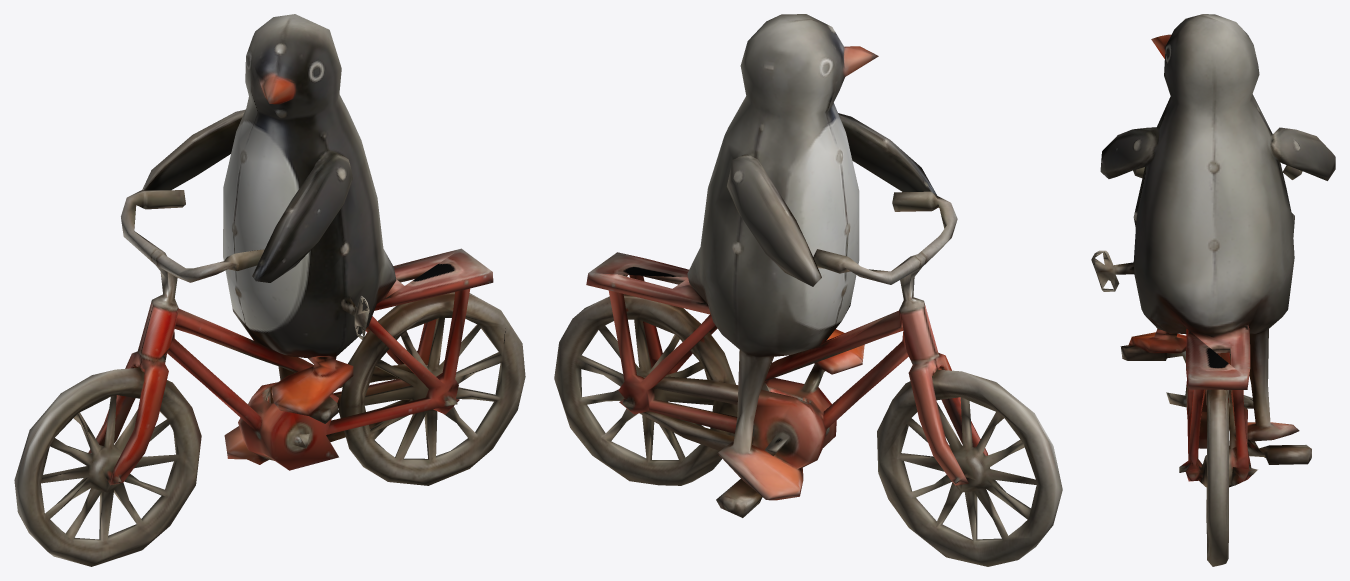
Rendered from penguin-09-32-bicycle-tin-penguin.gltf.
3 views of the same model, side by side, from view 1: azimuth 30°, elevation 25°; view 2: azimuth 150°, elevation 25°; view 3: azimuth 270°, elevation 25° (orthographic). The views are drawn at different scales.
Parts seen in each view (by area): view 1: penguin-09-32-bicycle-tin-penguin.001; view 2: penguin-09-32-bicycle-tin-penguin.001; view 3: penguin-09-32-bicycle-tin-penguin.001.
Boxes of the visible parts, box(x1,y1,x2,y2) form: penguin-09-32-bicycle-tin-penguin.001: box(14, 14, 525, 566); penguin-09-32-bicycle-tin-penguin.001: box(554, 14, 1062, 566); penguin-09-32-bicycle-tin-penguin.001: box(1091, 14, 1335, 566).
Bounding box in the file's own units: 0.1996 × 0.1888 × 0.0887.
1 material, 1 textured.
